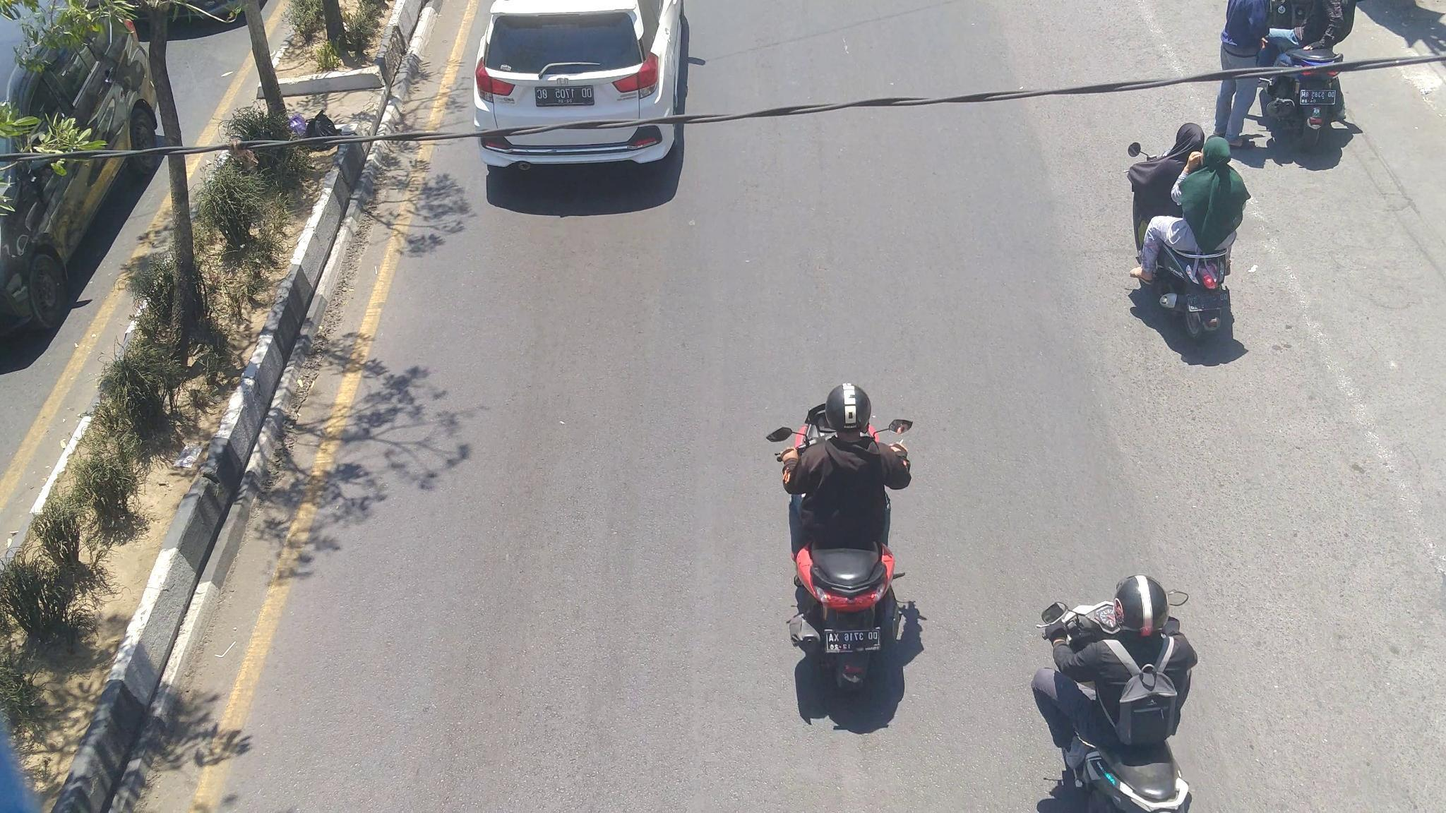Helmet: (1110, 568, 1175, 652), (816, 377, 883, 437)
bike: (758, 409, 923, 694), (1030, 584, 1194, 813), (1124, 139, 1244, 341)
no-helmet: (1196, 130, 1237, 178), (1170, 115, 1208, 163)
number-plate: (819, 625, 884, 656)
rider: (1035, 568, 1197, 751), (779, 378, 916, 545), (1130, 133, 1252, 283), (1127, 119, 1206, 228)
